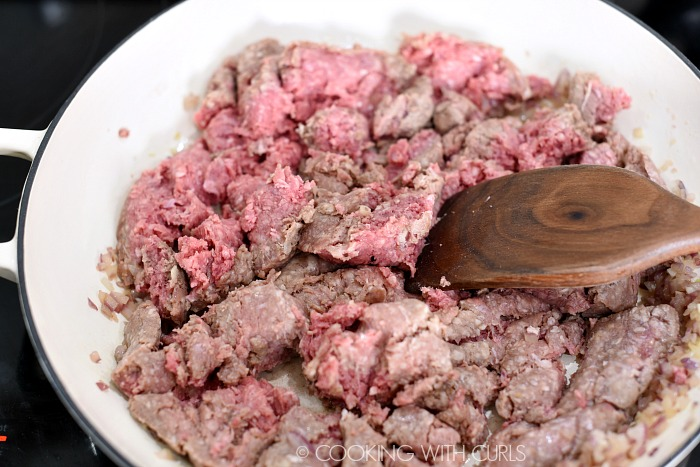ground_beef: (187, 64, 640, 448)
